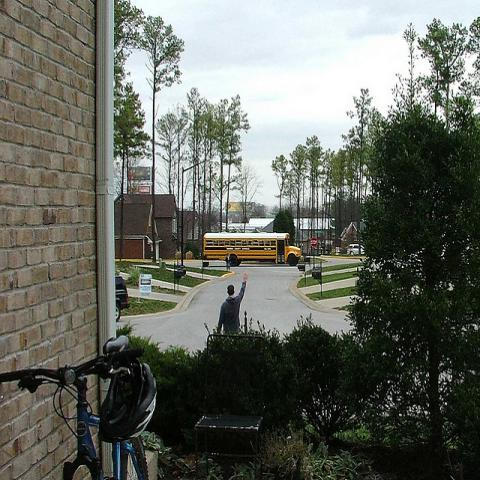bus: (203, 232, 301, 267)
car: (116, 276, 132, 323), (347, 244, 365, 256)
